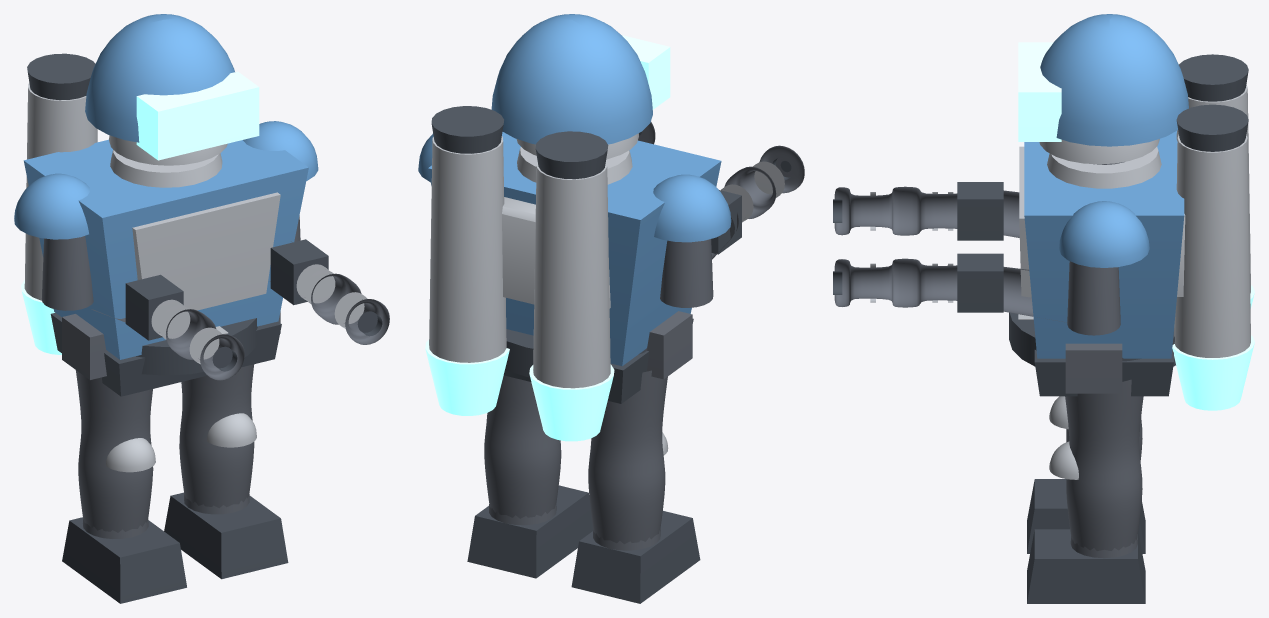
Rendered from jumpjet.glb.
3 renders of one model, left to right at view 1: azimuth 30°, elevation 25°; view 2: azimuth 150°, elevation 25°; view 3: azimuth 270°, elevation 25°, orthographic. The views are drawn at different scales.
Visible parts, largest first — view 1: Hull; view 2: Hull; view 3: Hull.
Boxes of the visible parts, x1=… form: Hull: x1=14, y1=14, x2=389, y2=603; Hull: x1=418, y1=14, x2=804, y2=603; Hull: x1=833, y1=14, x2=1254, y2=603.
Size of the model in its own units: 0.6327 by 1.1 by 0.7771.
